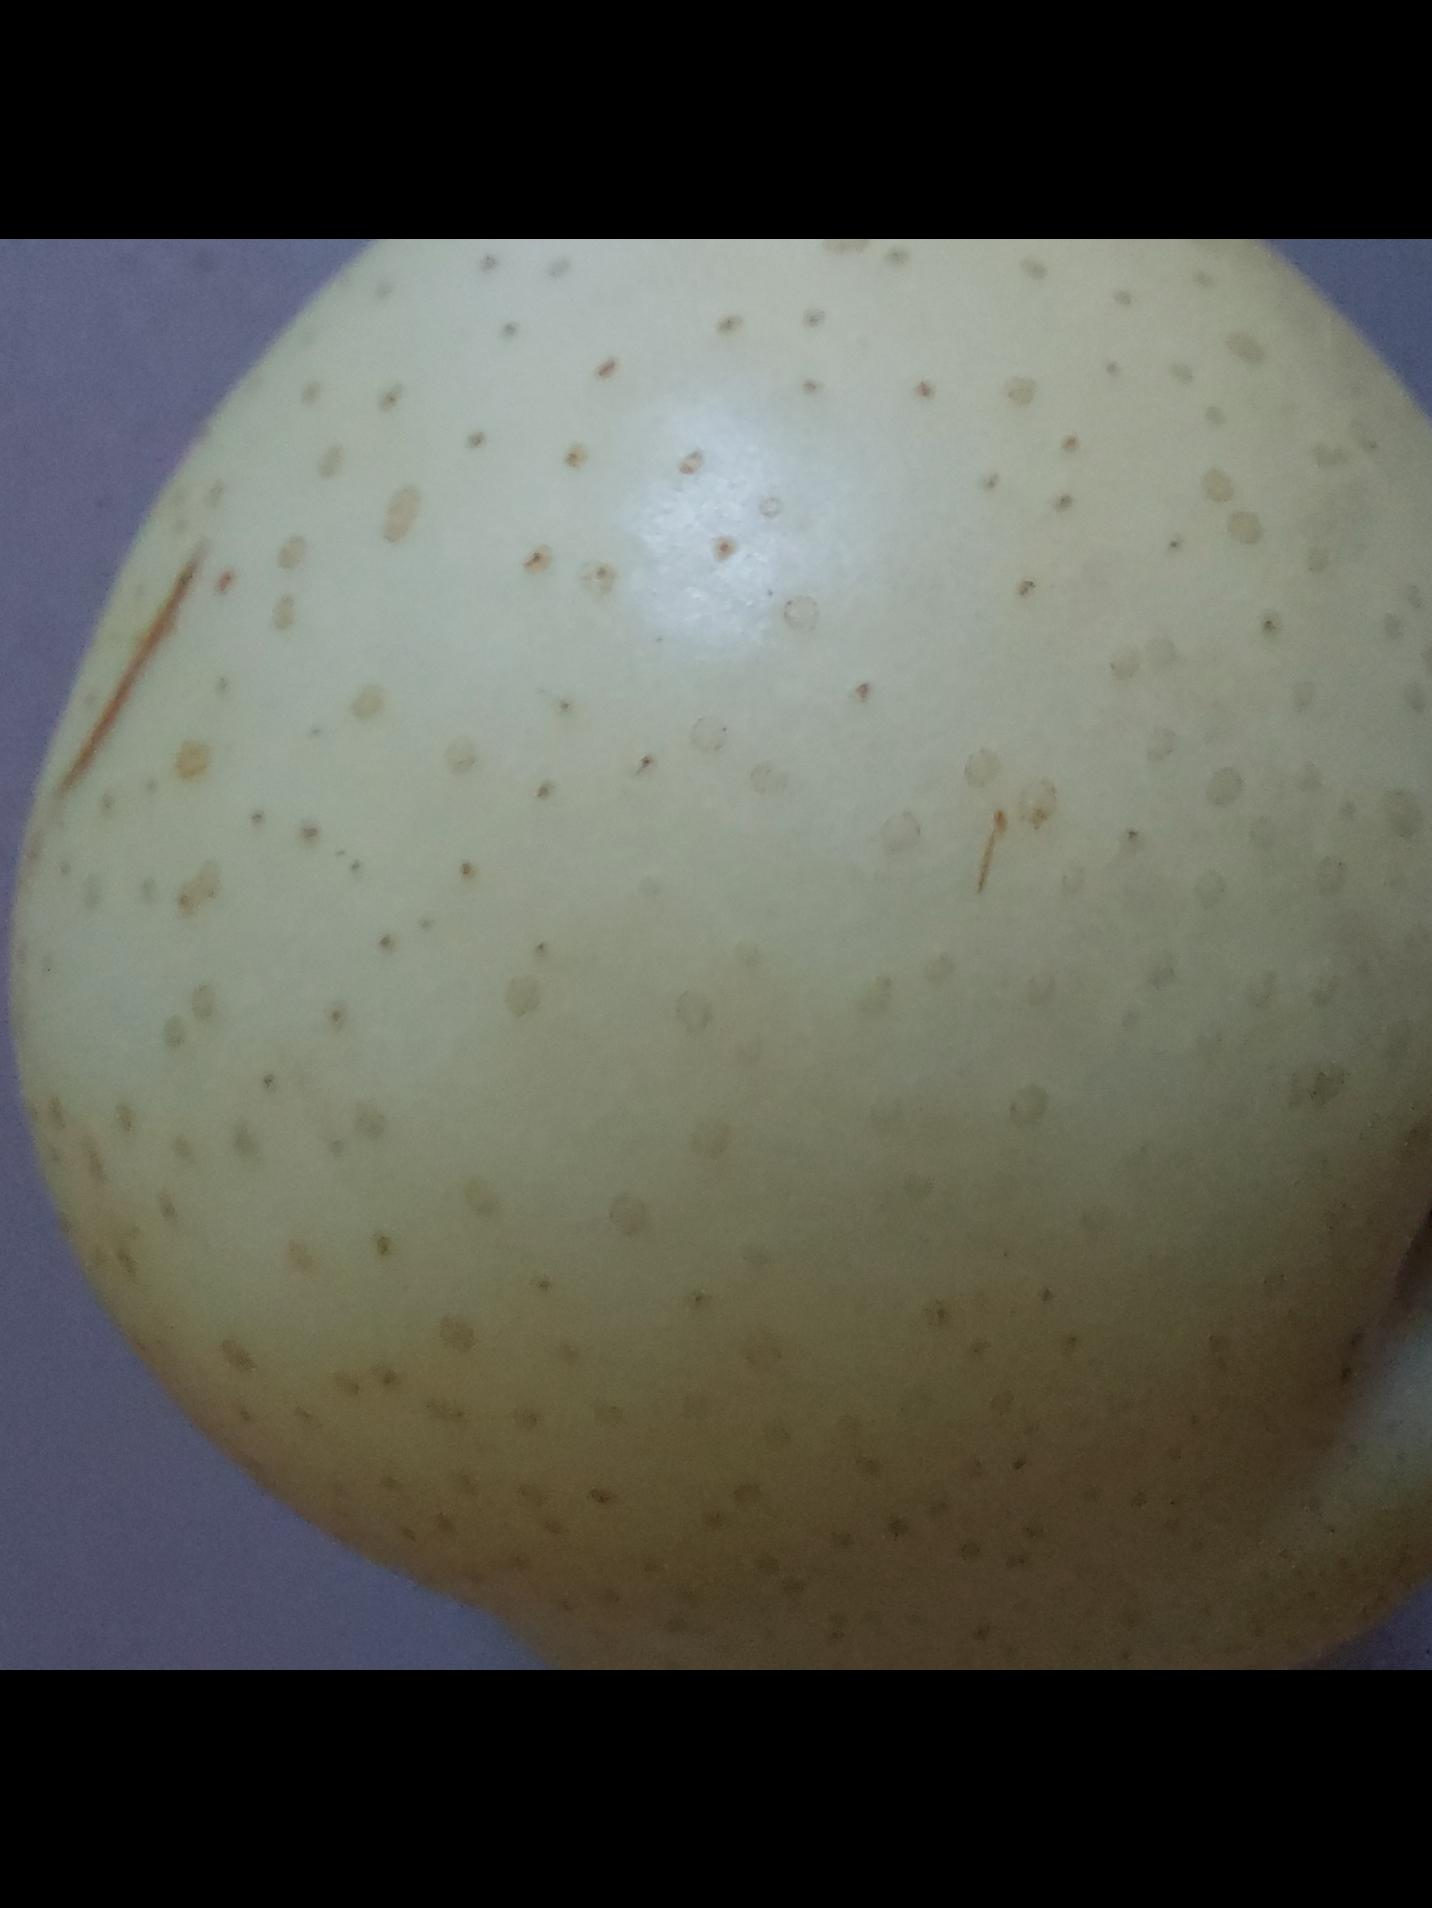Good Pear: (8, 238, 1432, 1670)
